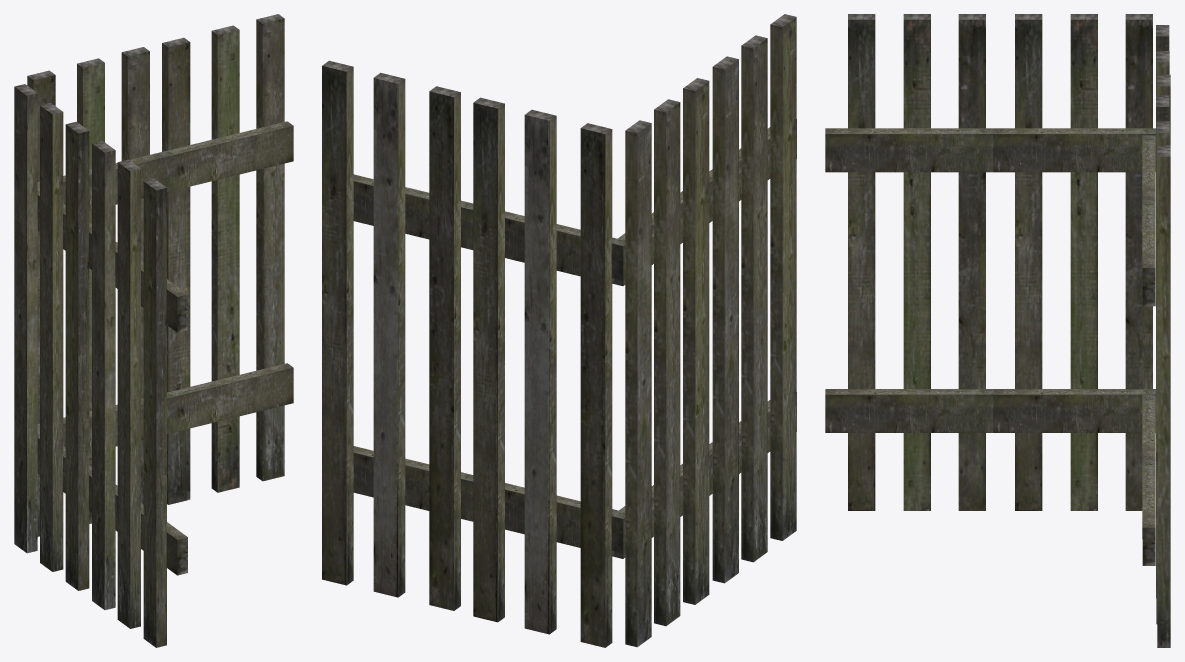
Rendered from fenceangle.obj.
3 views of the same model, side by side, from view 1: azimuth 30°, elevation 25°; view 2: azimuth 150°, elevation 25°; view 3: azimuth 270°, elevation 25° (orthographic). The views are drawn at different scales.
Visible parts, largest first — view 1: 0.019_0.021; view 2: 0.019_0.021; view 3: 0.019_0.021.
Boxes of the visible parts, box(x1,y1,x2,y2) form: 0.019_0.021: box(14, 14, 293, 647); 0.019_0.021: box(322, 14, 796, 647); 0.019_0.021: box(825, 14, 1170, 647).
Size of the model in its own units: 1.02 by 1.62 by 1.03.
